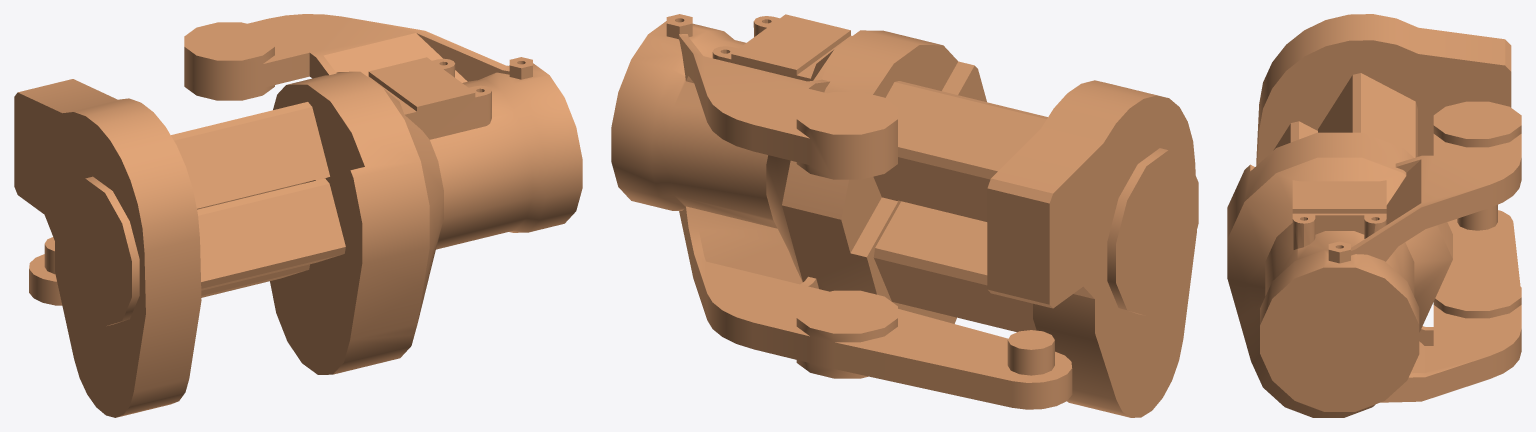
3 views of the same model, side by side, from view 1: azimuth 30°, elevation 25°; view 2: azimuth 150°, elevation 25°; view 3: azimuth 270°, elevation 25° (orthographic). The views are drawn at different scales.
Visible parts, largest first — view 1: IRB2400_16_m2000_rev4_01-6; view 2: IRB2400_16_m2000_rev4_01-6; view 3: IRB2400_16_m2000_rev4_01-6.
Part boxes in pixels (x1,y1,x2,y2): IRB2400_16_m2000_rev4_01-6: (14, 14, 582, 417); IRB2400_16_m2000_rev4_01-6: (611, 14, 1198, 417); IRB2400_16_m2000_rev4_01-6: (1227, 14, 1521, 417).
Bounding box in the file's own units: 0.4895 × 0.2991 × 0.288.
